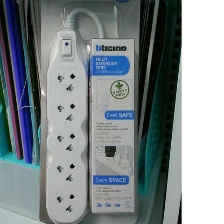book: (34, 0, 141, 224)
three_eye_plug: (43, 26, 90, 223)
